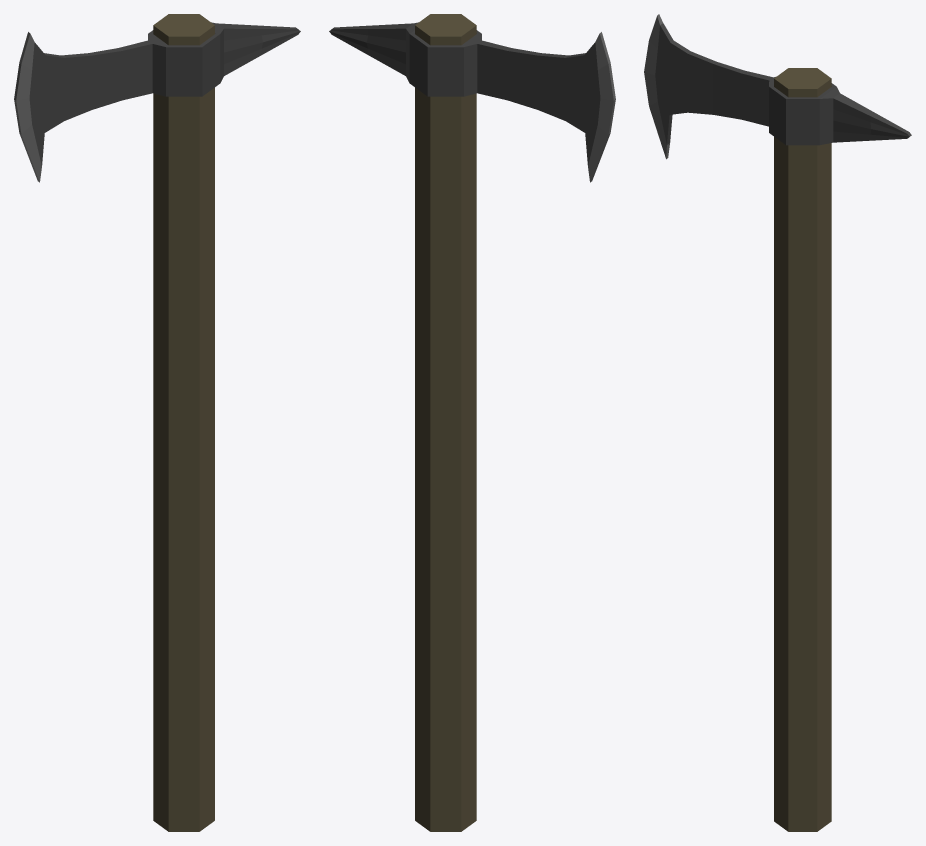
The model's file is W_BattleAxe.fbx.
3 renders of one model, left to right at view 1: azimuth 30°, elevation 25°; view 2: azimuth 150°, elevation 25°; view 3: azimuth 330°, elevation 25°, orthographic. The views are drawn at different scales.
Parts seen in each view (by area): view 1: BattleAxe; view 2: BattleAxe; view 3: BattleAxe.
Boxes of the visible parts, x1,y1,x2,y2 form: BattleAxe: (14, 14, 300, 831); BattleAxe: (329, 14, 615, 831); BattleAxe: (644, 14, 911, 831).
Bounding box in the file's own units: 0.7491 × 2.08 × 0.1653.
